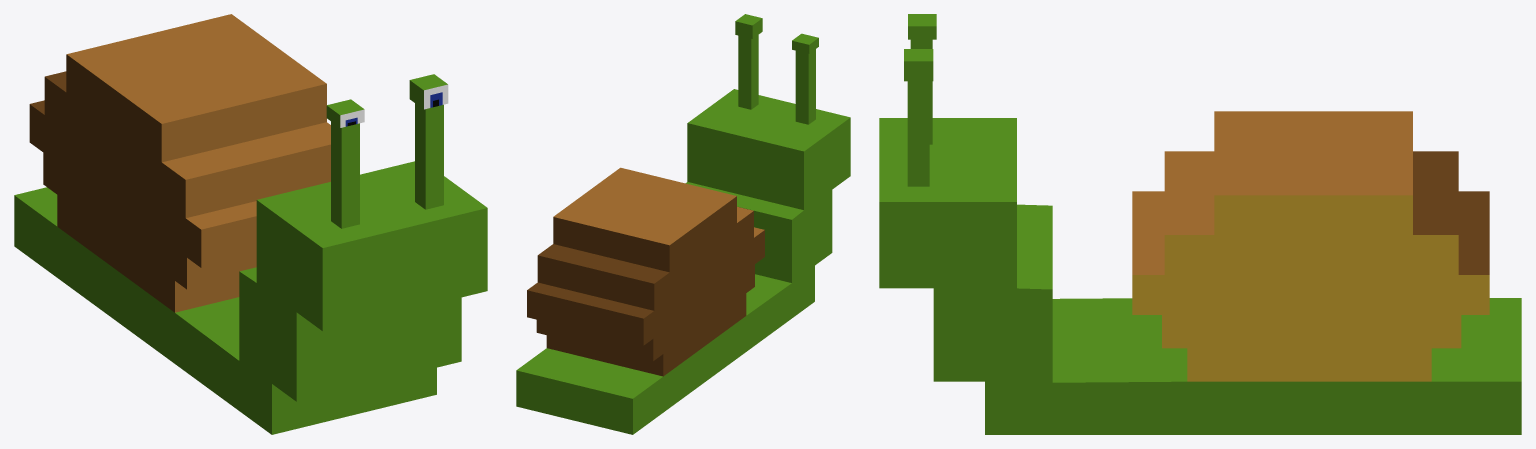
The model's file is snail.fbx.
3 renders of one model, left to right at view 1: azimuth 30°, elevation 25°; view 2: azimuth 150°, elevation 25°; view 3: azimuth 270°, elevation 25°, orthographic. The views are drawn at different scales.
Visible parts, largest first — view 1: Model; view 2: Model; view 3: Model.
Boxes of the visible parts, x1=… form: Model: x1=14, y1=14, x2=487, y2=434; Model: x1=516, y1=14, x2=850, y2=434; Model: x1=879, y1=14, x2=1521, y2=434.
Bounding box in the file's own units: 0.27 × 0.54 × 0.8737.
